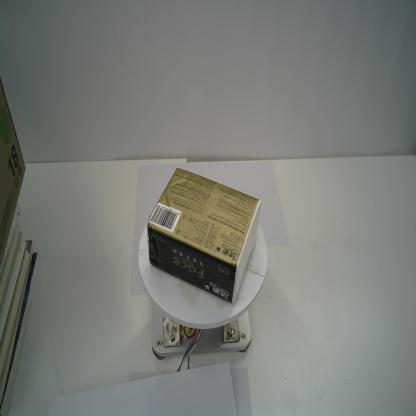Tissue: (146, 165, 263, 307)
